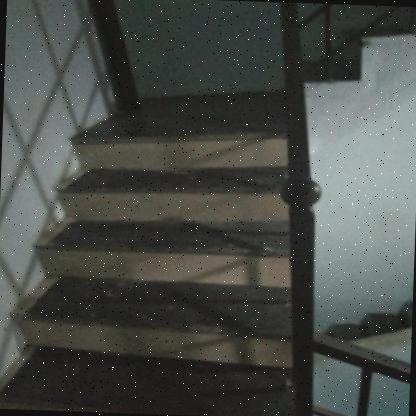stair: (21, 89, 306, 416)
